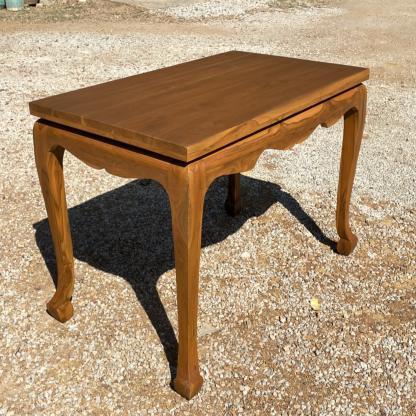table: (26, 43, 372, 401)
